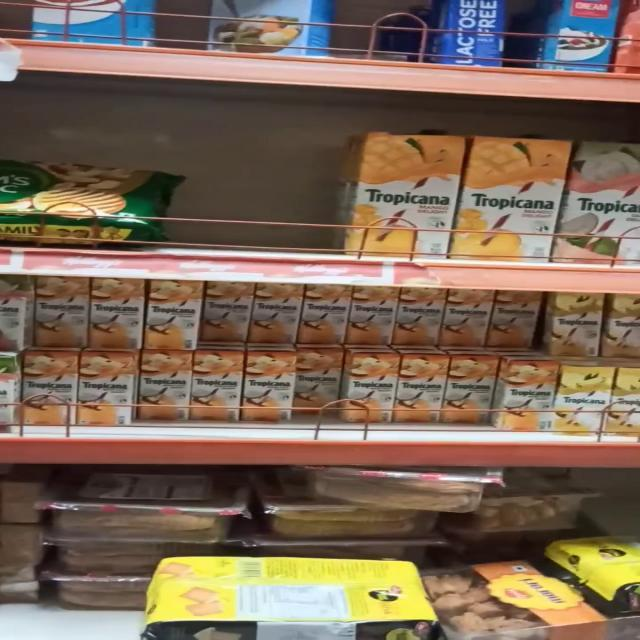Tropicana: (346, 120, 468, 256), (457, 122, 567, 266), (20, 352, 80, 427), (250, 278, 310, 349), (77, 353, 132, 427), (148, 276, 204, 348), (35, 280, 95, 346), (94, 278, 148, 350), (136, 354, 191, 424), (393, 350, 447, 420), (344, 348, 397, 419), (238, 356, 297, 418), (488, 286, 543, 350), (497, 362, 550, 428), (291, 352, 347, 414), (557, 362, 608, 430), (203, 279, 258, 342), (442, 284, 494, 350), (189, 350, 239, 418), (549, 288, 602, 350), (444, 358, 494, 421), (351, 284, 404, 343), (398, 285, 445, 344), (309, 285, 352, 343)
